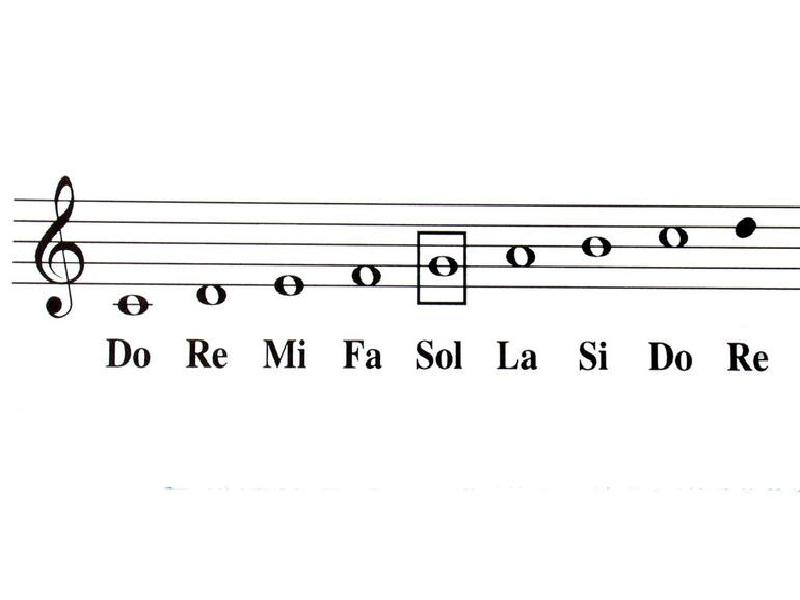CS: (31, 175, 87, 319)
R: (576, 228, 615, 261), (429, 248, 459, 285), (658, 221, 691, 254), (273, 270, 307, 300), (117, 291, 152, 320), (346, 262, 383, 289), (197, 275, 226, 309), (506, 243, 538, 273)
